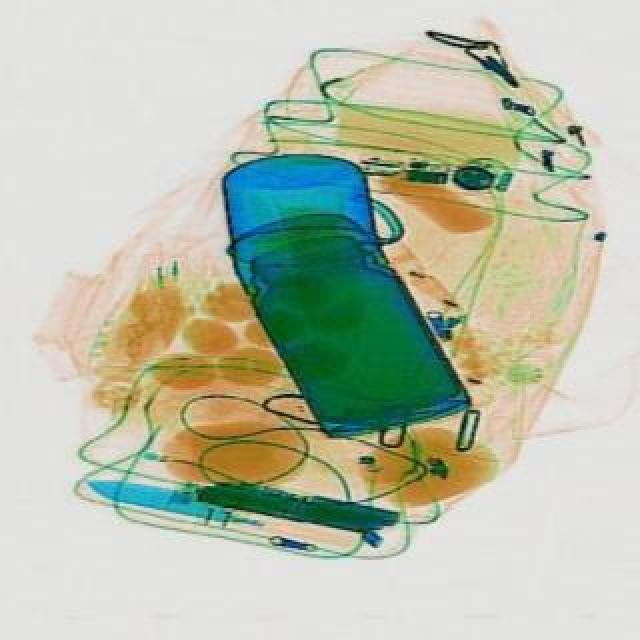knife: (90, 470, 276, 532)
